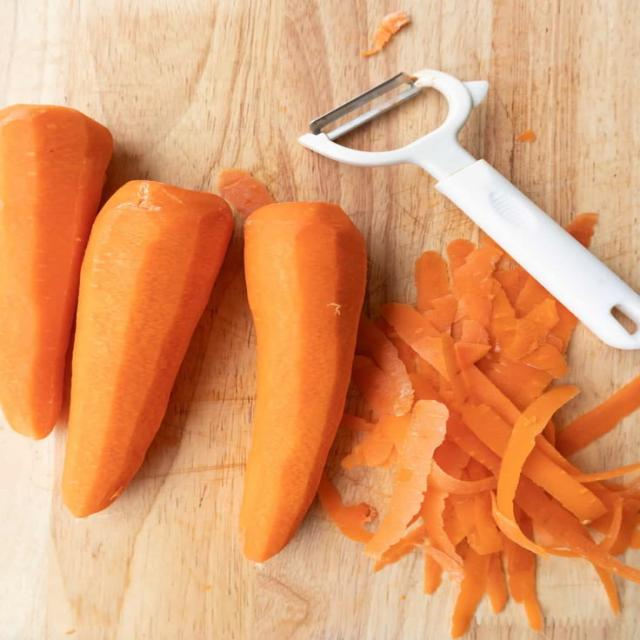carrot: (377, 238, 639, 633), (63, 181, 233, 517), (240, 203, 366, 561), (0, 105, 113, 438), (365, 401, 448, 557), (496, 386, 578, 524), (557, 376, 639, 455), (523, 447, 605, 520), (356, 316, 413, 415), (477, 355, 553, 410), (318, 474, 376, 542), (420, 487, 462, 579), (491, 494, 547, 557), (452, 547, 490, 638), (504, 298, 559, 359), (462, 366, 519, 424), (506, 540, 542, 631), (352, 355, 403, 416), (217, 169, 274, 218), (451, 247, 502, 299), (342, 422, 393, 469), (374, 526, 426, 572), (429, 460, 496, 494), (468, 491, 503, 554), (376, 318, 416, 372), (361, 12, 410, 56), (414, 251, 448, 312), (514, 272, 550, 318), (520, 343, 567, 377), (434, 439, 470, 478), (424, 545, 462, 581), (573, 463, 639, 483), (424, 294, 457, 333), (379, 414, 411, 451), (487, 554, 507, 613), (599, 501, 622, 551), (565, 213, 598, 247), (494, 269, 524, 306), (447, 239, 475, 277), (415, 355, 443, 391), (454, 342, 490, 369), (410, 374, 441, 401), (460, 320, 490, 347), (424, 552, 442, 594), (340, 414, 374, 431), (515, 130, 536, 142)
